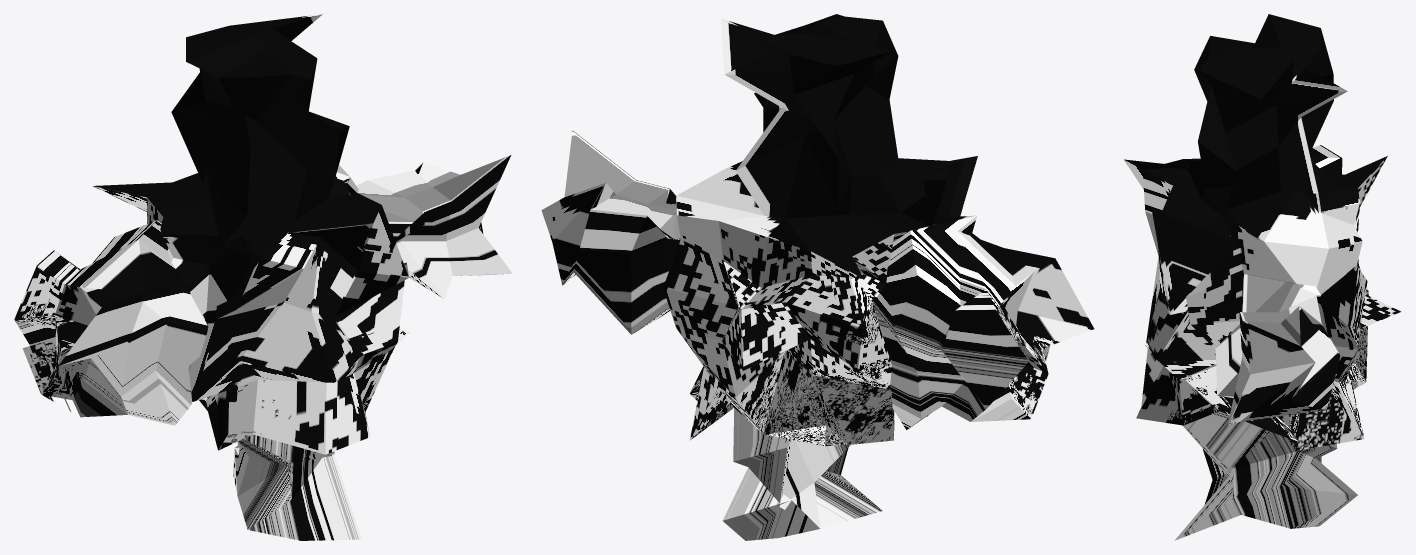
3 views of the same model, side by side, from view 1: azimuth 30°, elevation 25°; view 2: azimuth 150°, elevation 25°; view 3: azimuth 270°, elevation 25° (orthographic). The views are drawn at different scales.
Parts seen in each view (by area): view 1: Cube.001; view 2: Cube.001; view 3: Cube.001.
Part boxes in pixels (x1,y1,x2,y2): Cube.001: (14,14,512,540); Cube.001: (541,14,1094,540); Cube.001: (1123,14,1400,540).
Size of the model in its own units: 5.48 by 5.31 by 2.85.
Materials: 1 (1 with a texture image).
